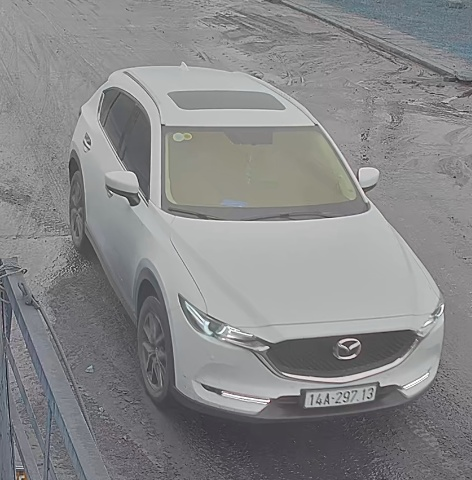vehicle plate: (295, 383, 391, 409)
